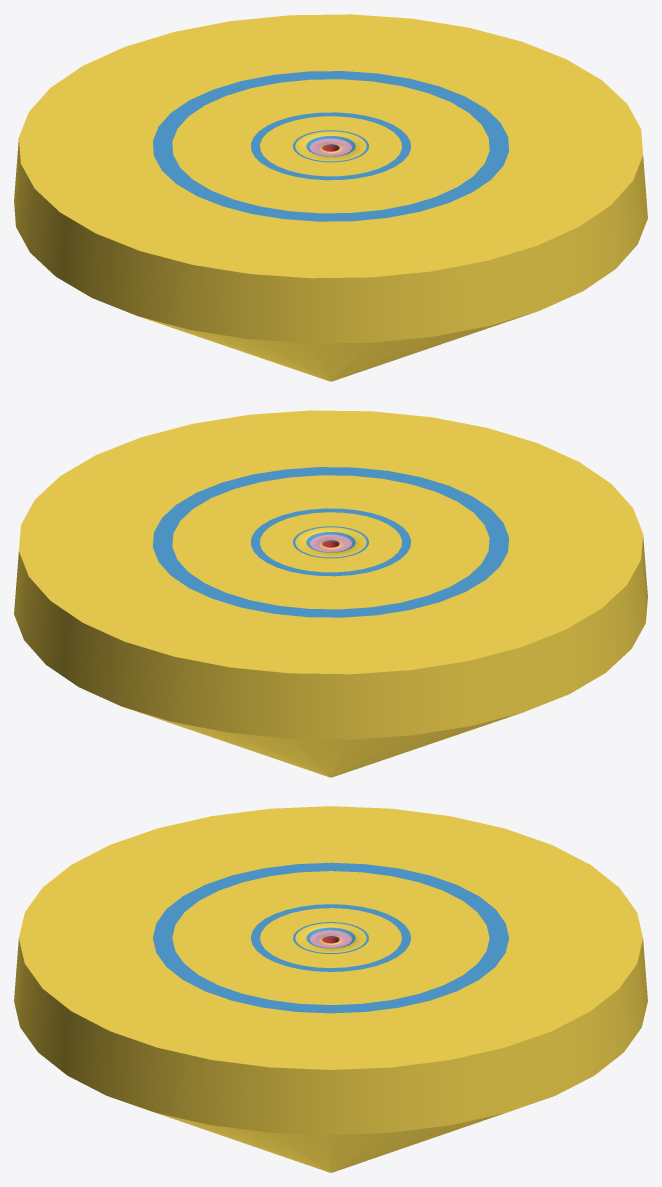
The model's file is M_ground 1.fbx.
3 renders of one model, top to bottom at view 1: azimuth 30°, elevation 25°; view 2: azimuth 150°, elevation 25°; view 3: azimuth 270°, elevation 25°, orthographic.
Parts seen in each view (by area): view 1: Circle; view 2: Circle; view 3: Circle.
Part boxes in pixels (x1=…): Circle: x1=14, y1=14, x2=647, y2=381; Circle: x1=14, y1=410, x2=647, y2=777; Circle: x1=14, y1=806, x2=647, y2=1172.
Size of the model in its own units: 11317 by 4597 by 11315.
